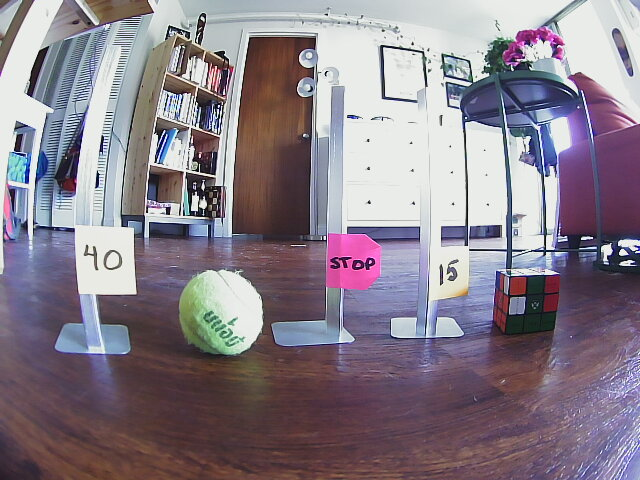15: (428, 249, 472, 299)
40: (77, 229, 133, 294)
ball: (175, 270, 267, 355)
cube: (493, 268, 558, 335)
stop: (327, 235, 380, 292)
